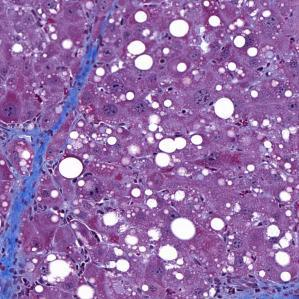fibrosis: (0, 122, 56, 266)
